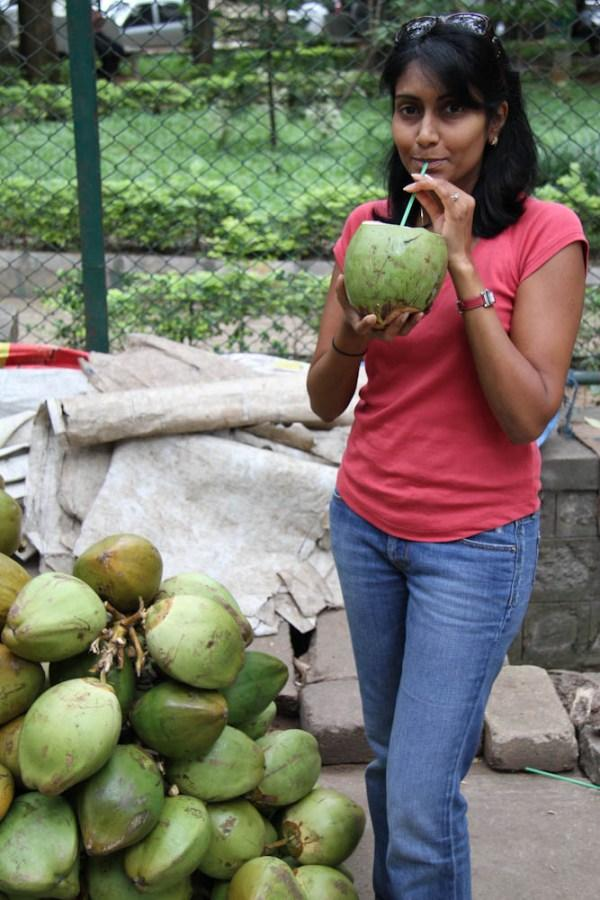person: (307, 12, 590, 899)
